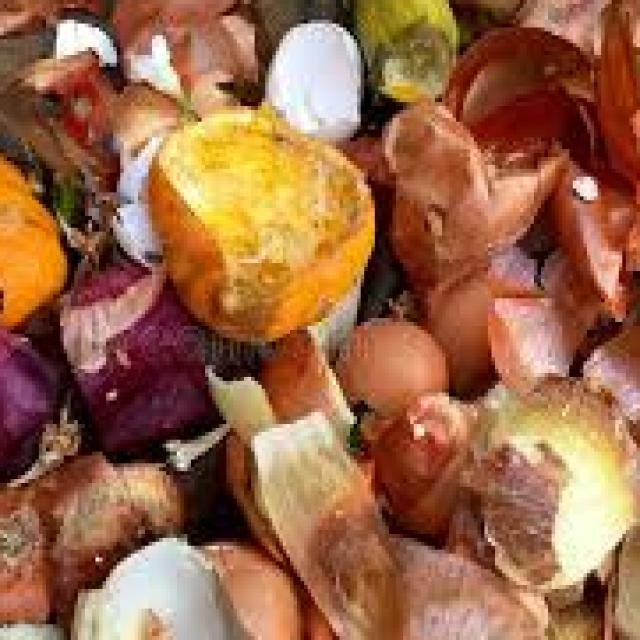inorganic: (6, 4, 631, 634)
